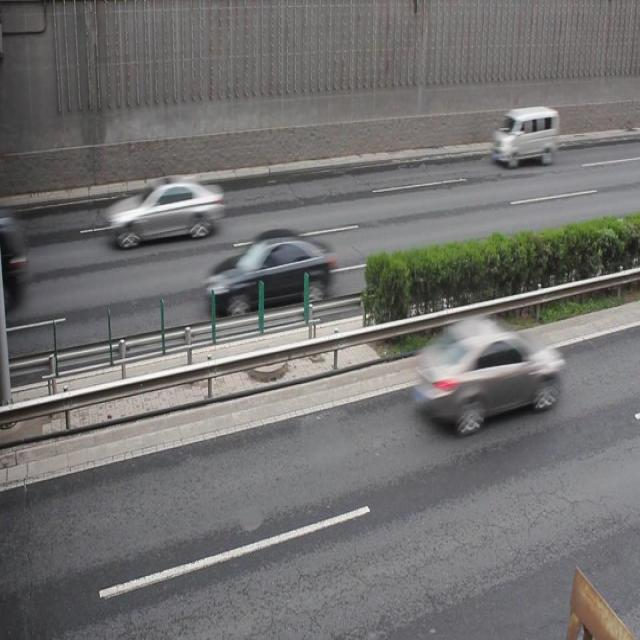car: (413, 313, 558, 432), (202, 226, 334, 313), (107, 173, 222, 250)
truck: (491, 106, 558, 164)
